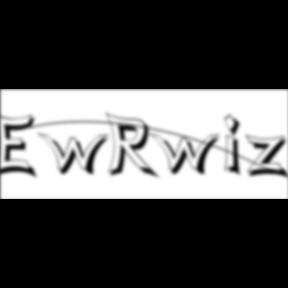E: (0, 110, 42, 182)
R: (106, 112, 162, 182)
i: (224, 112, 248, 180)
w: (38, 132, 116, 178), (149, 132, 227, 178)
